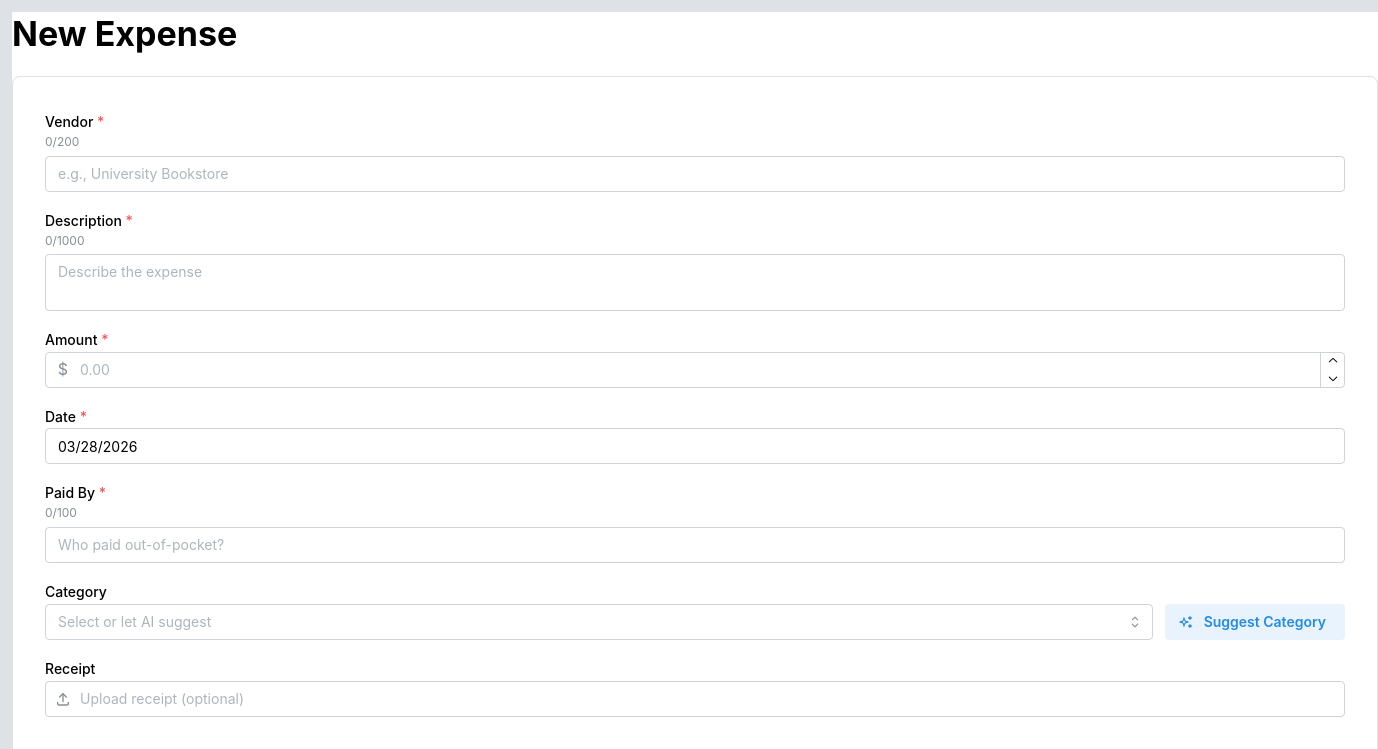
Scenario: ExpenseForm › AI Categorization › populates category select after AI suggestion
The image size is (1378, 749).
Type "University Bookstore" into the field labelled "Vendor *" at coordinates (695, 174), box left=45, top=156, right=1345, bottom=192
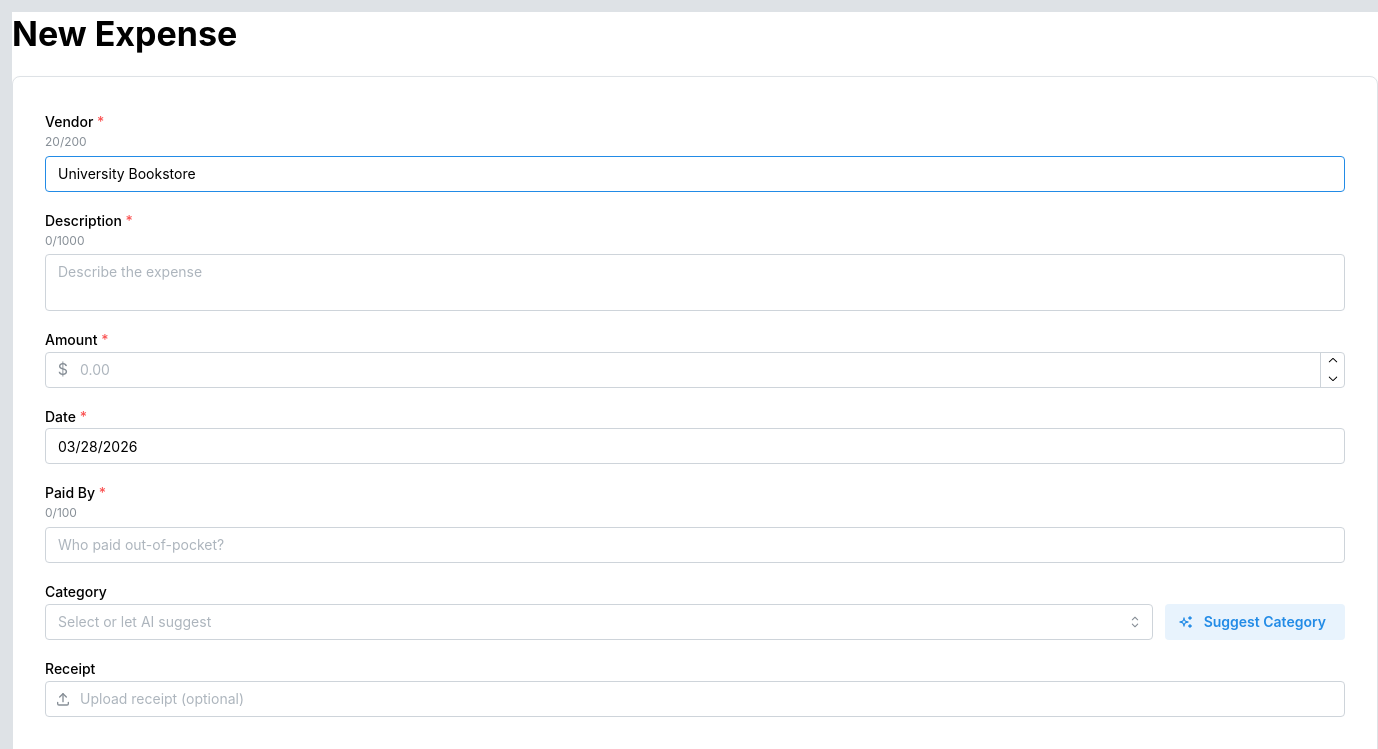
Type "Textbooks for fall semester" into the text box labelled "Description *" at coordinates (695, 283), box left=45, top=254, right=1345, bottom=311
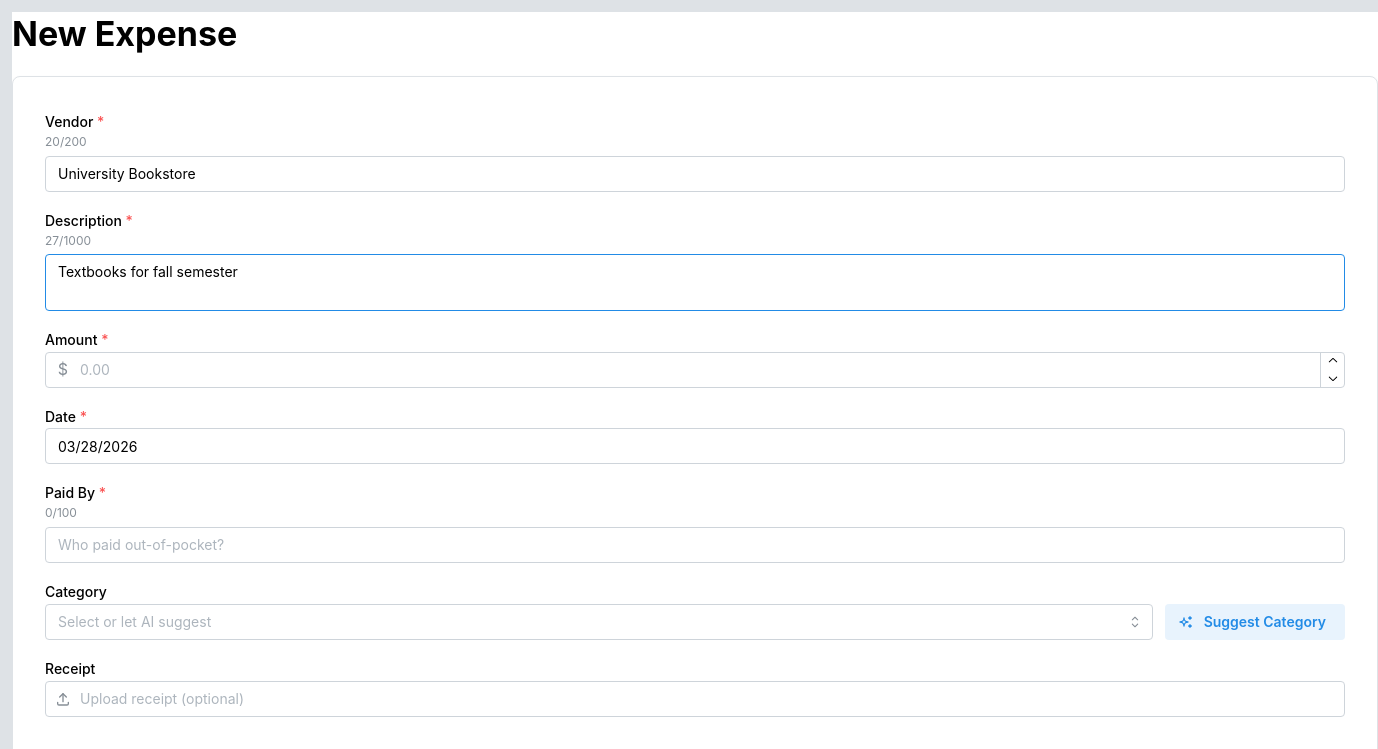
Click the button "Suggest Category" at coordinates (1255, 622), box left=1165, top=604, right=1345, bottom=640
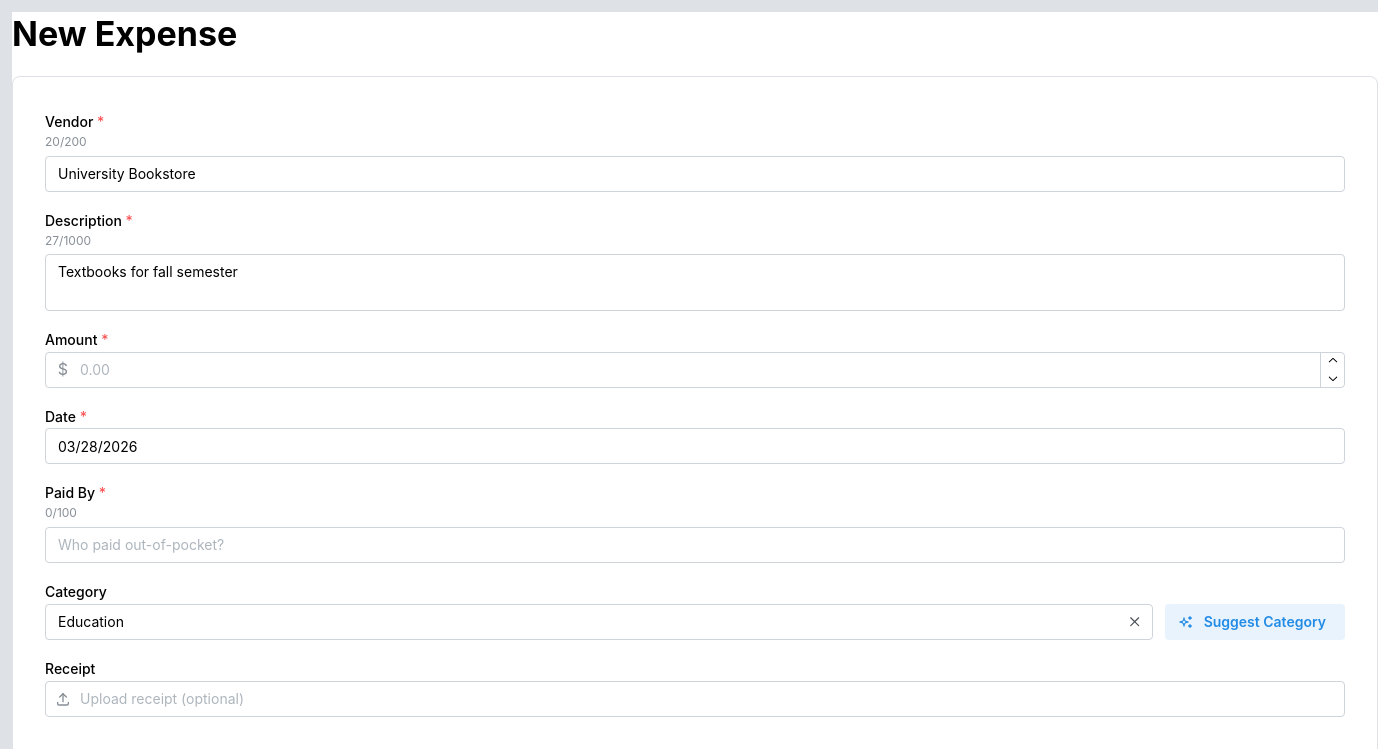
Now the field labelled "Category" holds "Education", box left=45, top=604, right=1153, bottom=640
